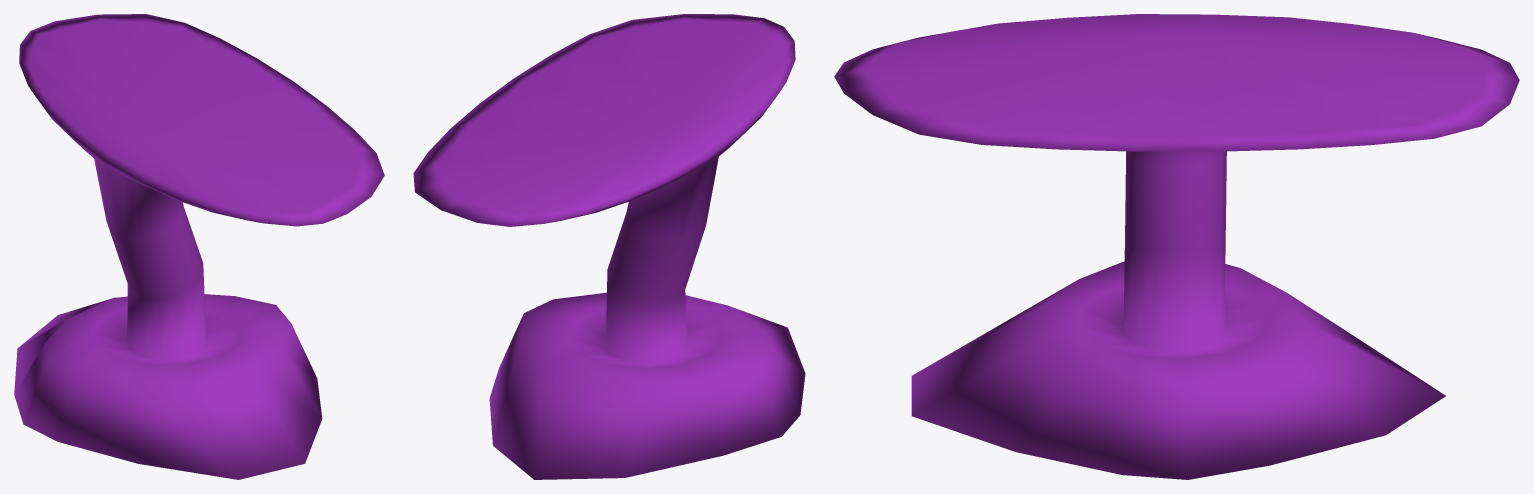
The model's file is TableExport.FBX.
The picture shows the model from 3 angles, left to right: view 1: azimuth 30°, elevation 25°; view 2: azimuth 150°, elevation 25°; view 3: azimuth 270°, elevation 25°; orthographic projection. The views are drawn at different scales.
Parts seen in each view (by area): view 1: Table; view 2: Table; view 3: Table.
Part boxes in pixels (box(x1,y1,x2,y2)): Table: box(14, 14, 384, 479); Table: box(413, 14, 805, 479); Table: box(834, 14, 1519, 479).
Bounding box in the file's own units: 73.32 × 67.61 × 124.
